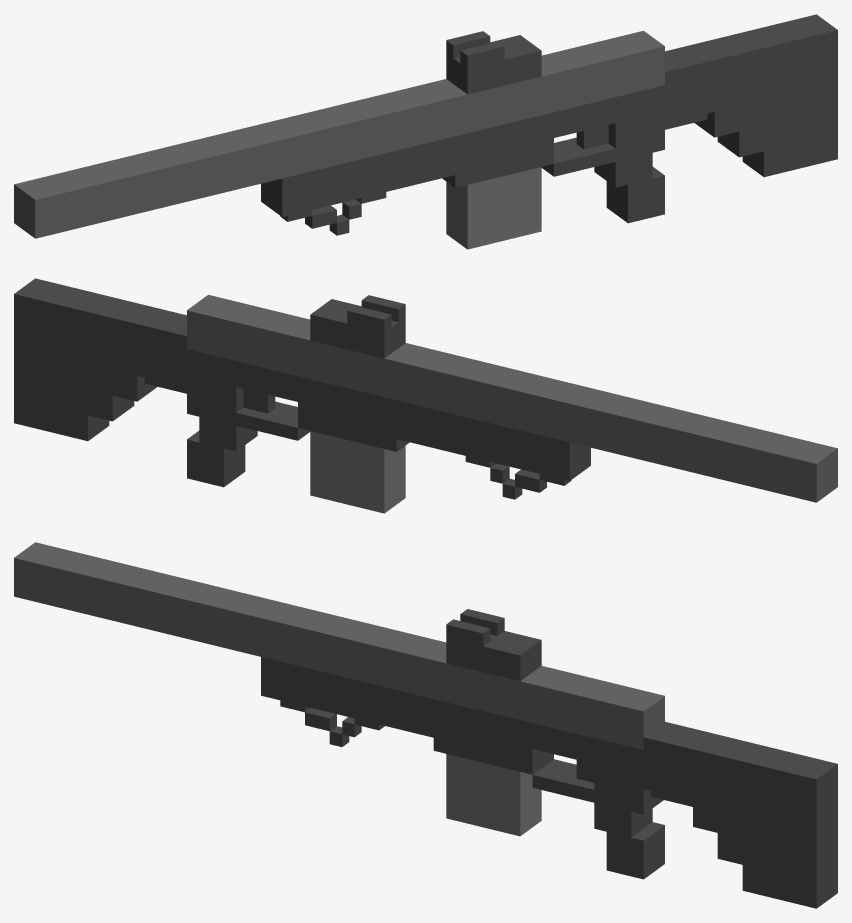
File: Gun-1.obj
3 views of the same model, one above another, from view 1: azimuth 30°, elevation 25°; view 2: azimuth 150°, elevation 25°; view 3: azimuth 330°, elevation 25° (orthographic).
Visible parts, largest first — view 1: Gun-1; view 2: Gun-1; view 3: Gun-1.
Boxes of the visible parts, box(x1,y1,x2,y2) form: Gun-1: box(14, 14, 837, 249); Gun-1: box(14, 278, 837, 513); Gun-1: box(14, 542, 837, 908).
Bounding box in the file's own units: 65 × 16 × 3.
Materials: 1 (1 with a texture image).
